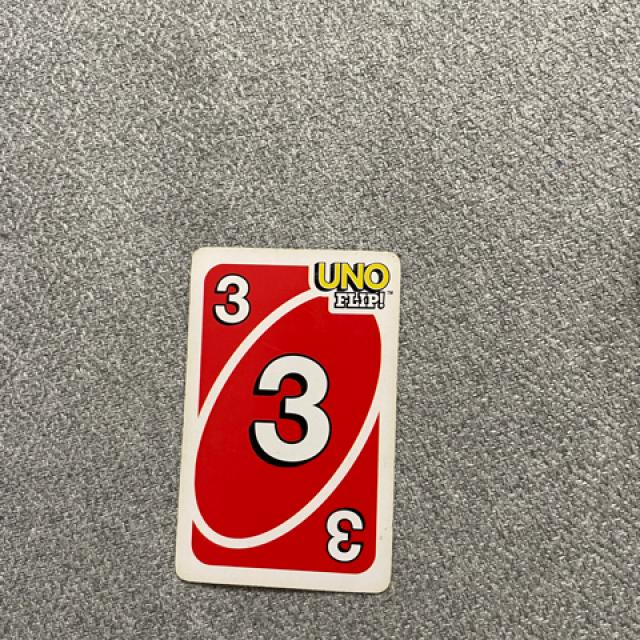lred-3: (202, 259, 264, 340)
